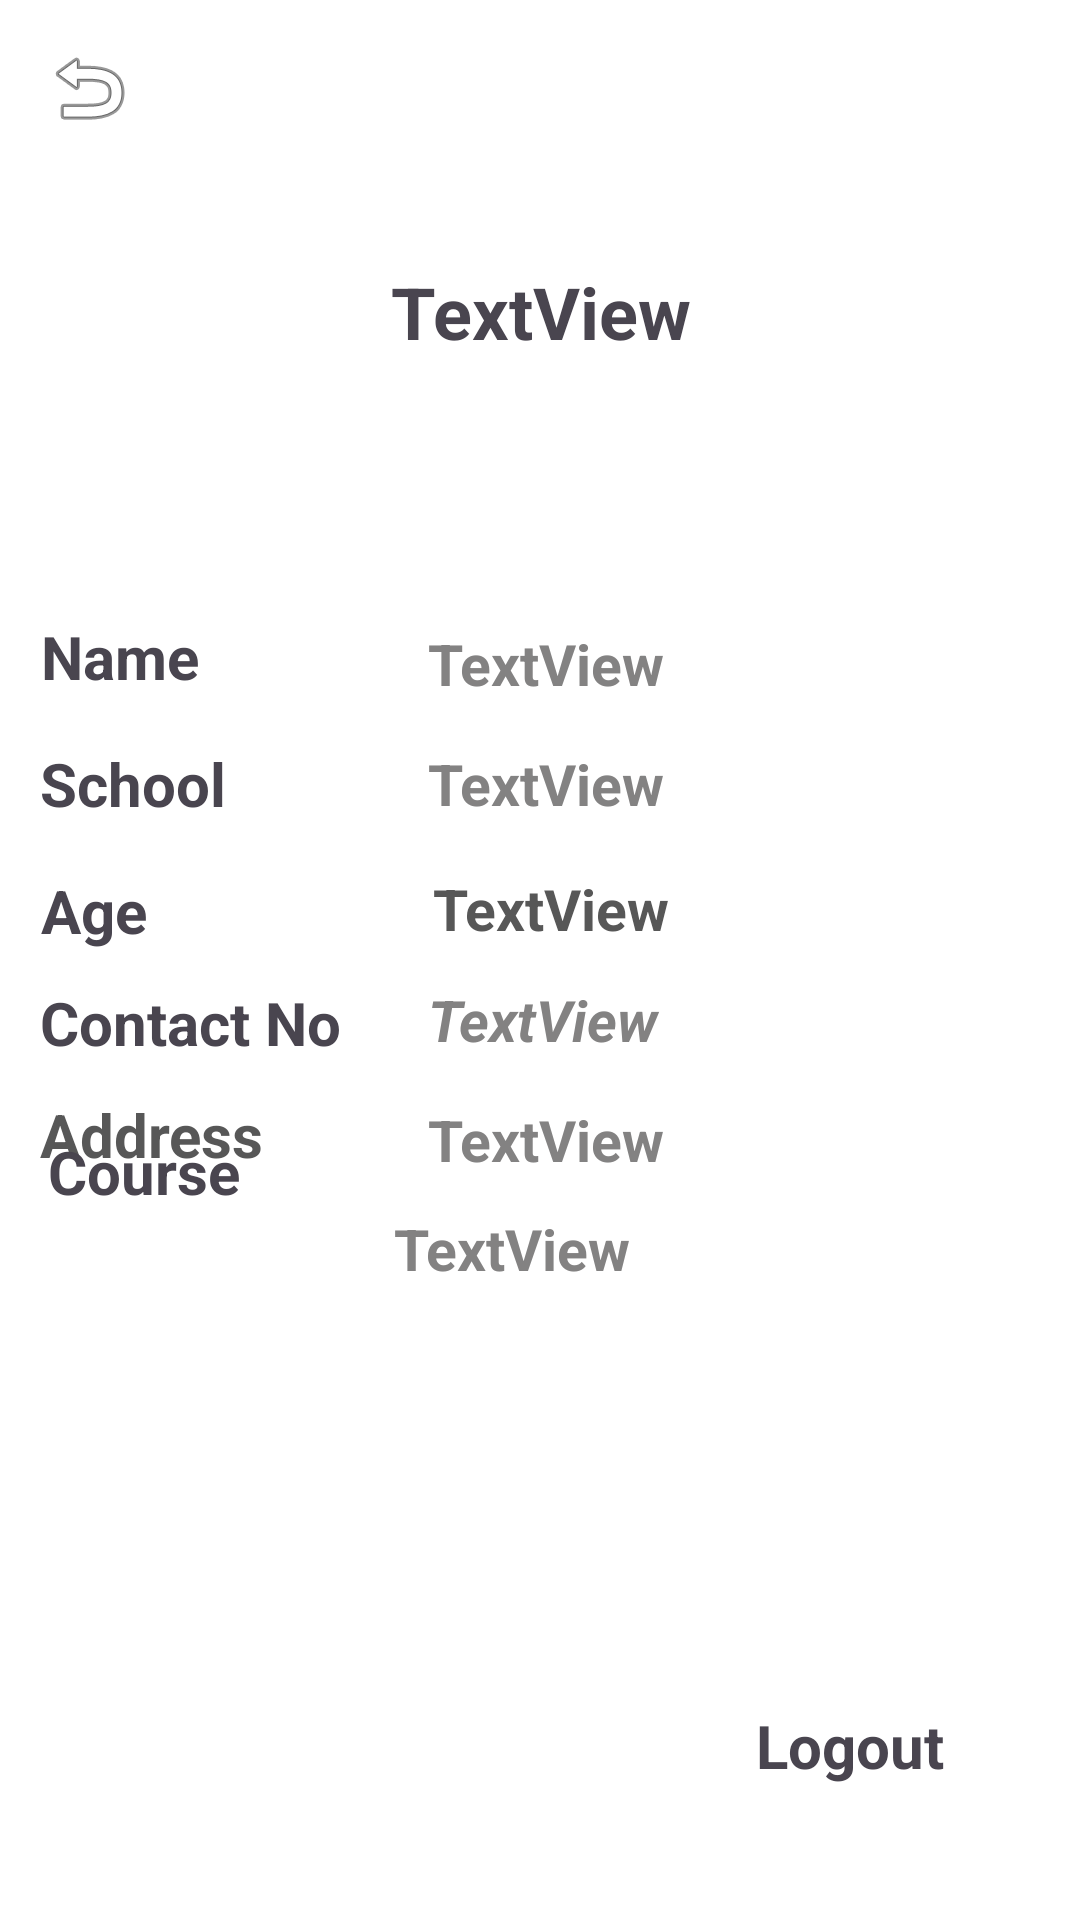

Icons on this 1080px x 1920px Android screen, each with its box as box(x1, y1, x2, y2):
revert: box(56, 57, 125, 120)
